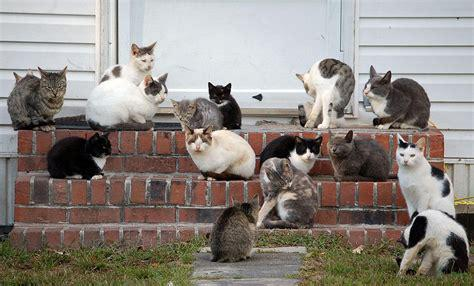cat: (396, 133, 456, 222), (395, 211, 470, 277), (86, 73, 169, 130), (364, 65, 431, 130), (259, 158, 319, 228), (296, 58, 355, 128), (182, 124, 255, 179), (8, 67, 68, 130), (211, 196, 261, 261), (47, 132, 113, 179), (326, 131, 389, 180), (100, 41, 156, 85), (207, 82, 242, 128), (171, 98, 222, 129)
